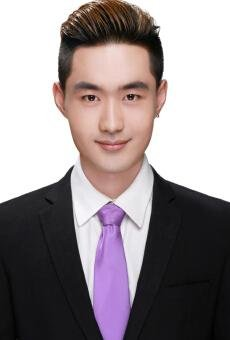unmask: (64, 46, 159, 164)
